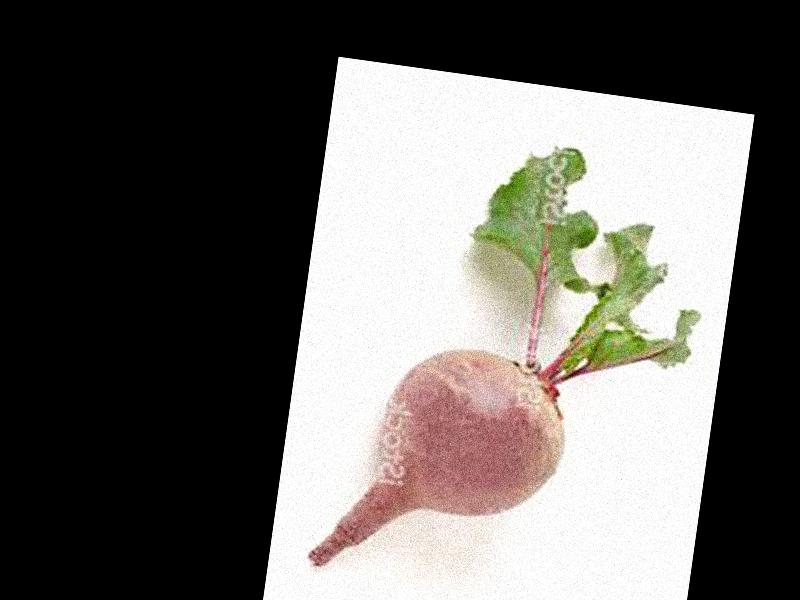Beet: (309, 118, 721, 600)
